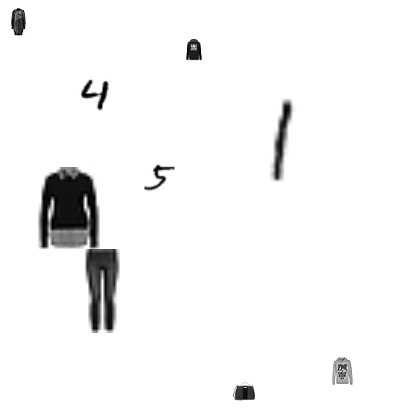1: (223, 80, 335, 192)
4: (74, 71, 116, 113)
5: (137, 155, 179, 197)
6: (242, 171, 256, 185)
Bag: (233, 380, 255, 402)
Coat: (4, 8, 32, 36)
Pullover: (27, 167, 111, 251), (328, 357, 356, 385), (183, 39, 205, 61)
Trouser: (59, 249, 143, 333)
